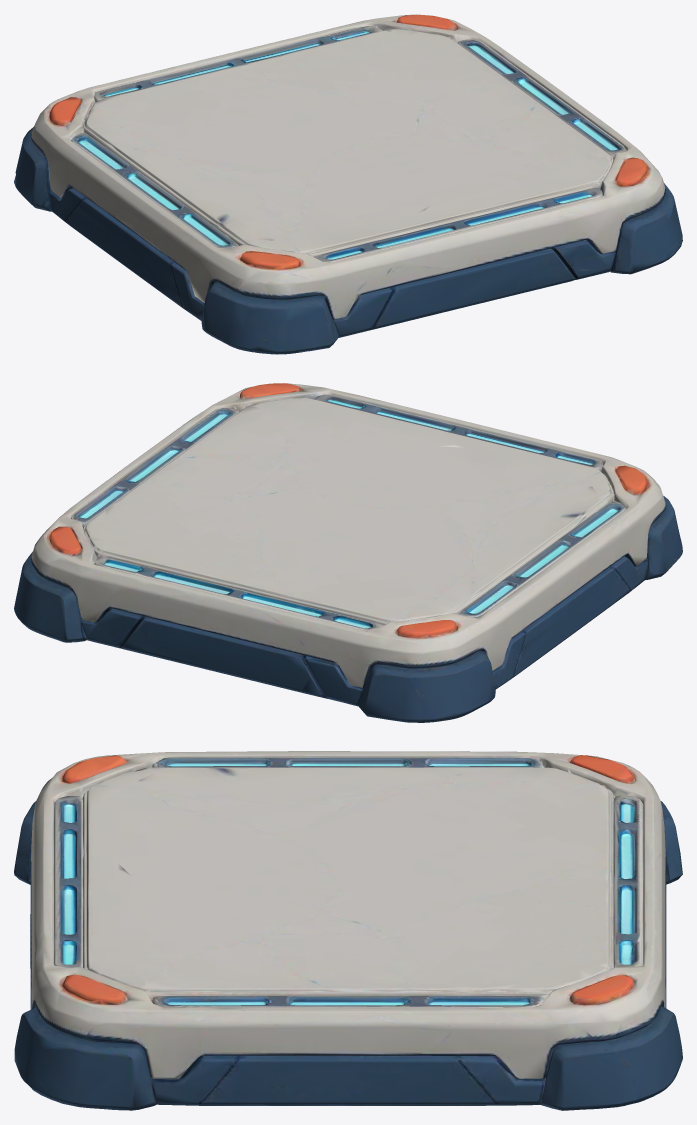
File: model-29-pressure-platform.glb
The picture shows the model from 3 angles, top to bottom: view 1: azimuth 30°, elevation 25°; view 2: azimuth 150°, elevation 25°; view 3: azimuth 270°, elevation 25°; orthographic projection. The views are drawn at different scales.
Parts seen in each view (by area): view 1: node_0; view 2: node_0; view 3: node_0.
Part boxes in pixels (x1,y1,x2,y2): node_0: (14,14,682,354); node_0: (14,383,682,722); node_0: (14,751,682,1110).
Size of the model in its own units: 0.9277 by 0.146 by 0.927.
1 material, 1 textured.
